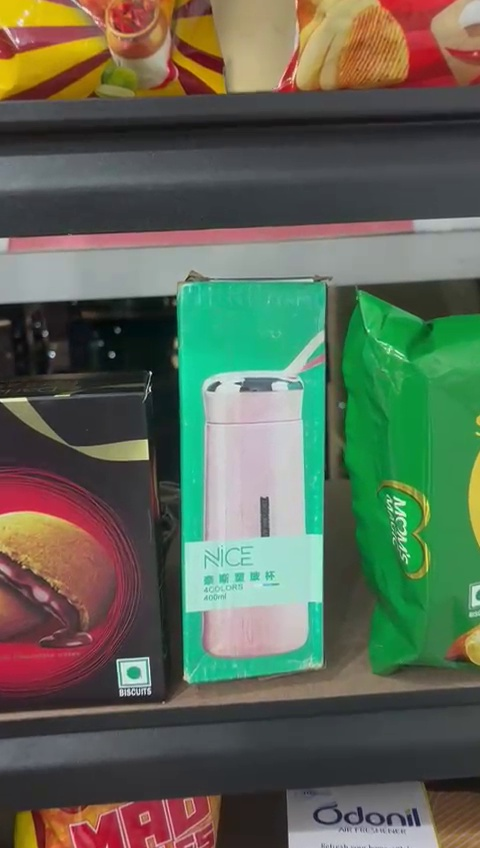Bottle: (176, 279, 329, 683)
